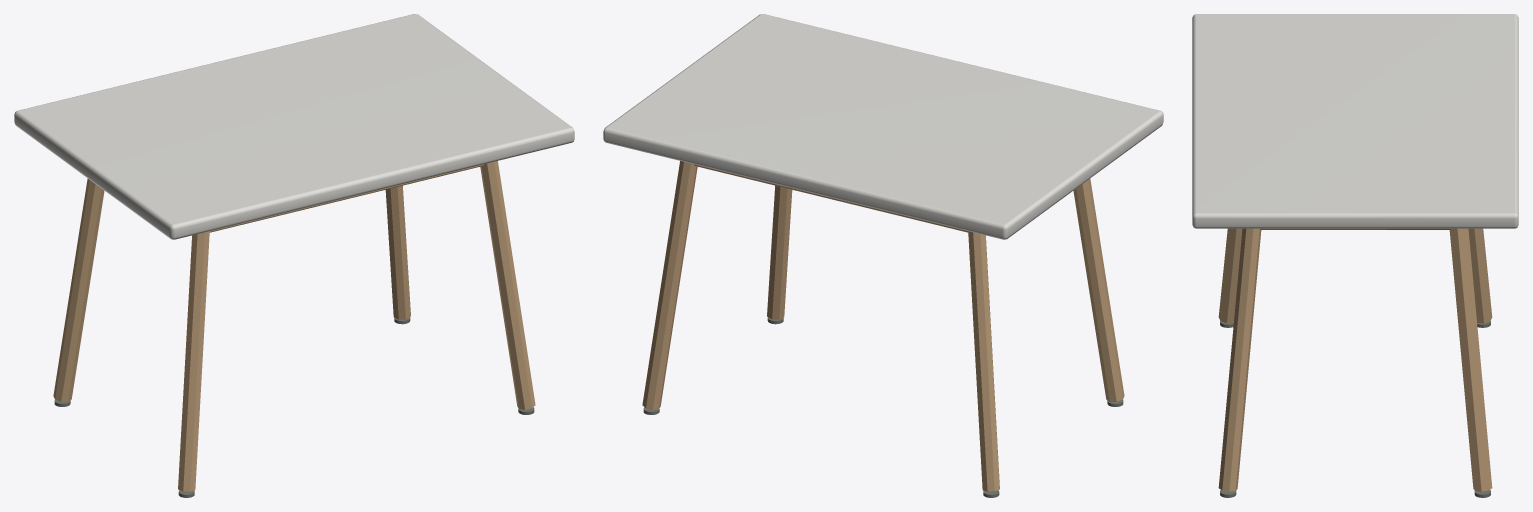
File: breakfast-nook-table.glb
3 renders of one model, left to right at view 1: azimuth 30°, elevation 25°; view 2: azimuth 150°, elevation 25°; view 3: azimuth 270°, elevation 25°, orthographic. The views are drawn at different scales.
Visible parts, largest first — view 1: catalog_surface_RealismUV; view 2: catalog_surface_RealismUV; view 3: catalog_surface_RealismUV.
Part boxes in pixels (x1,y1,x2,y2): catalog_surface_RealismUV: (14,14,574,497); catalog_surface_RealismUV: (603,14,1163,497); catalog_surface_RealismUV: (1192,14,1518,497).
Bounding box in the file's own units: 1.1 × 0.75 × 0.75.
